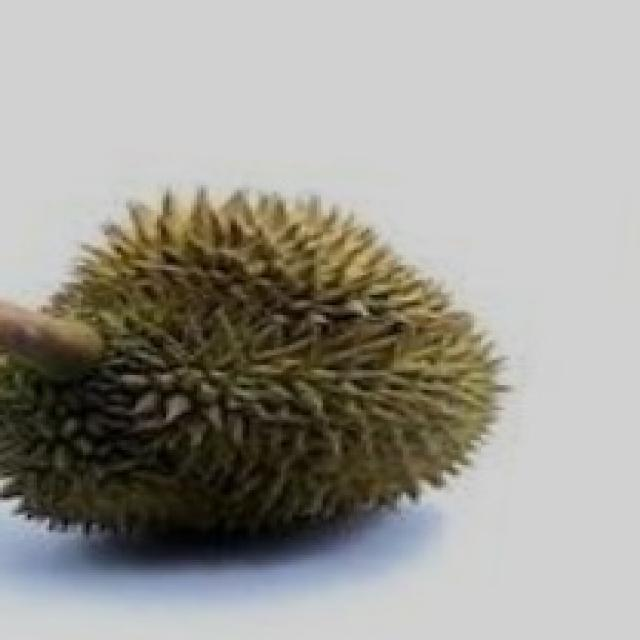fruit: (6, 178, 382, 592)
